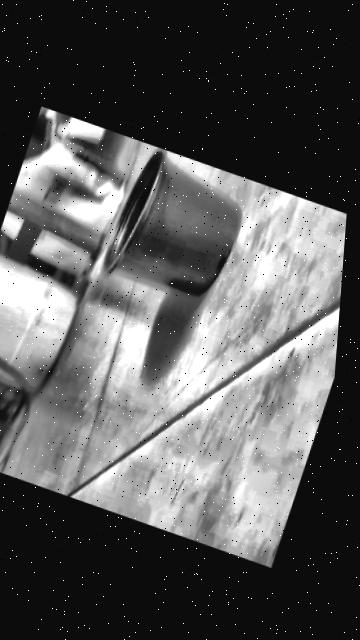pot: (96, 139, 255, 315)
